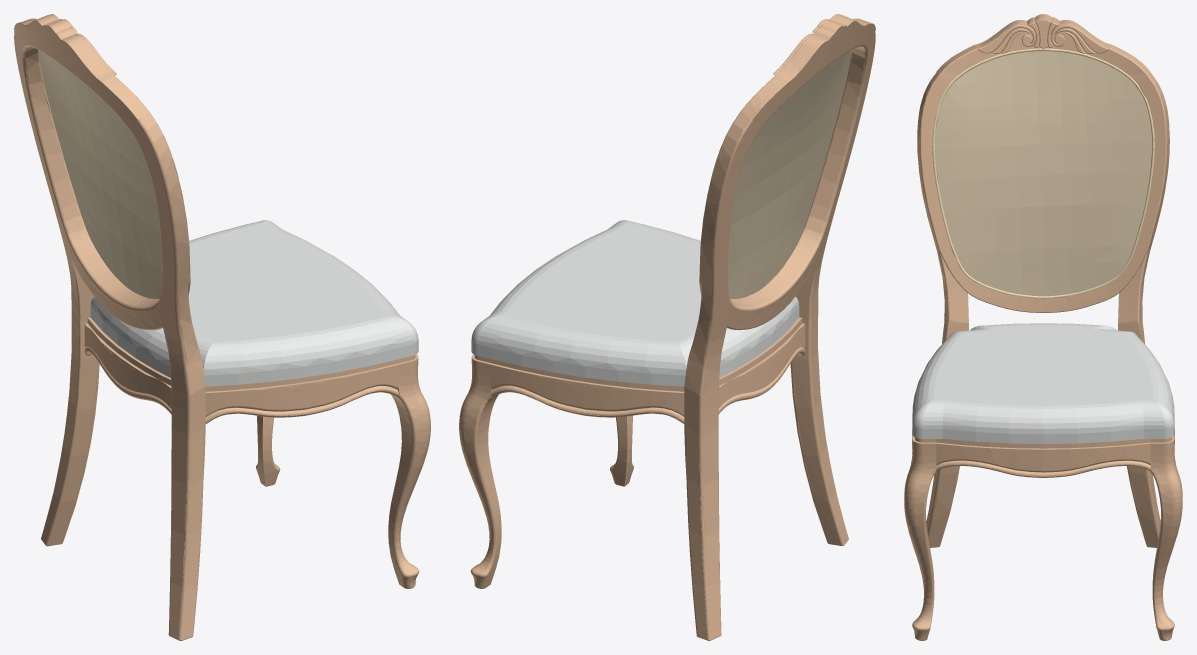
The model's file is trebbiano-cadeira.glb.
3 views of the same model, side by side, from view 1: azimuth 30°, elevation 25°; view 2: azimuth 150°, elevation 25°; view 3: azimuth 270°, elevation 25° (orthographic). The views are drawn at different scales.
Parts seen in each view (by area): view 1: ASSENTO, PÉ TRASEIRO DIREITO, Component28, PÉ TRASEIRO ESQUERDO, TRAVESSA DIREITO ASSENTO, PÉ FRENTE (×2), Component26, TRAVESSA BAIXO ENCOSTO, TRAVESSA TRASEIRA ASSENTO; view 2: ASSENTO, PÉ TRASEIRO ESQUERDO, Component28, PÉ TRASEIRO DIREITO, TRAVESSA ESQUERDA ASSENTO, PÉ FRENTE (×2), Component26, TRAVESSA BAIXO ENCOSTO, TRAVESSA TRASEIRA ASSENTO; view 3: Component28, ASSENTO, PÉ FRENTE (×2), PÉ TRASEIRO DIREITO, PÉ TRASEIRO ESQUERDO, TRAVESSA FRENTE ASSENTO, Component26, TRAVESSA BAIXO ENCOSTO, Component27.
Boxes of the visible parts, box(x1,y1,x2,y2) form: ASSENTO: box(90, 220, 418, 386); PÉ TRASEIRO DIREITO: box(129, 112, 205, 640); Component28: box(38, 50, 162, 298); PÉ TRASEIRO ESQUERDO: box(14, 31, 99, 546); TRAVESSA DIREITO ASSENTO: box(205, 359, 398, 424); PÉ FRENTE (×2): box(256, 354, 430, 588); Component26: box(14, 14, 149, 128); TRAVESSA BAIXO ENCOSTO: box(67, 228, 162, 329); TRAVESSA TRASEIRA ASSENTO: box(84, 317, 171, 414); ASSENTO: box(471, 220, 799, 386); PÉ TRASEIRO ESQUERDO: box(684, 112, 760, 640); Component28: box(727, 50, 851, 298); PÉ TRASEIRO DIREITO: box(790, 32, 875, 545); TRAVESSA ESQUERDA ASSENTO: box(491, 359, 684, 423); PÉ FRENTE (×2): box(459, 354, 633, 588); Component26: box(740, 14, 875, 128); TRAVESSA BAIXO ENCOSTO: box(727, 228, 822, 329); TRAVESSA TRASEIRA ASSENTO: box(718, 317, 805, 413); Component28: box(935, 51, 1151, 296); ASSENTO: box(912, 323, 1174, 443); PÉ FRENTE (×2): box(904, 435, 1182, 640); PÉ TRASEIRO DIREITO: box(917, 72, 968, 547); PÉ TRASEIRO ESQUERDO: box(1118, 72, 1169, 547); TRAVESSA FRENTE ASSENTO: box(936, 439, 1150, 477); Component26: box(936, 14, 1150, 86); TRAVESSA BAIXO ENCOSTO: box(968, 275, 1118, 312); Component27: box(932, 48, 1154, 298).
Size of the model in its own units: 0.5841 by 1.04 by 0.5202.
